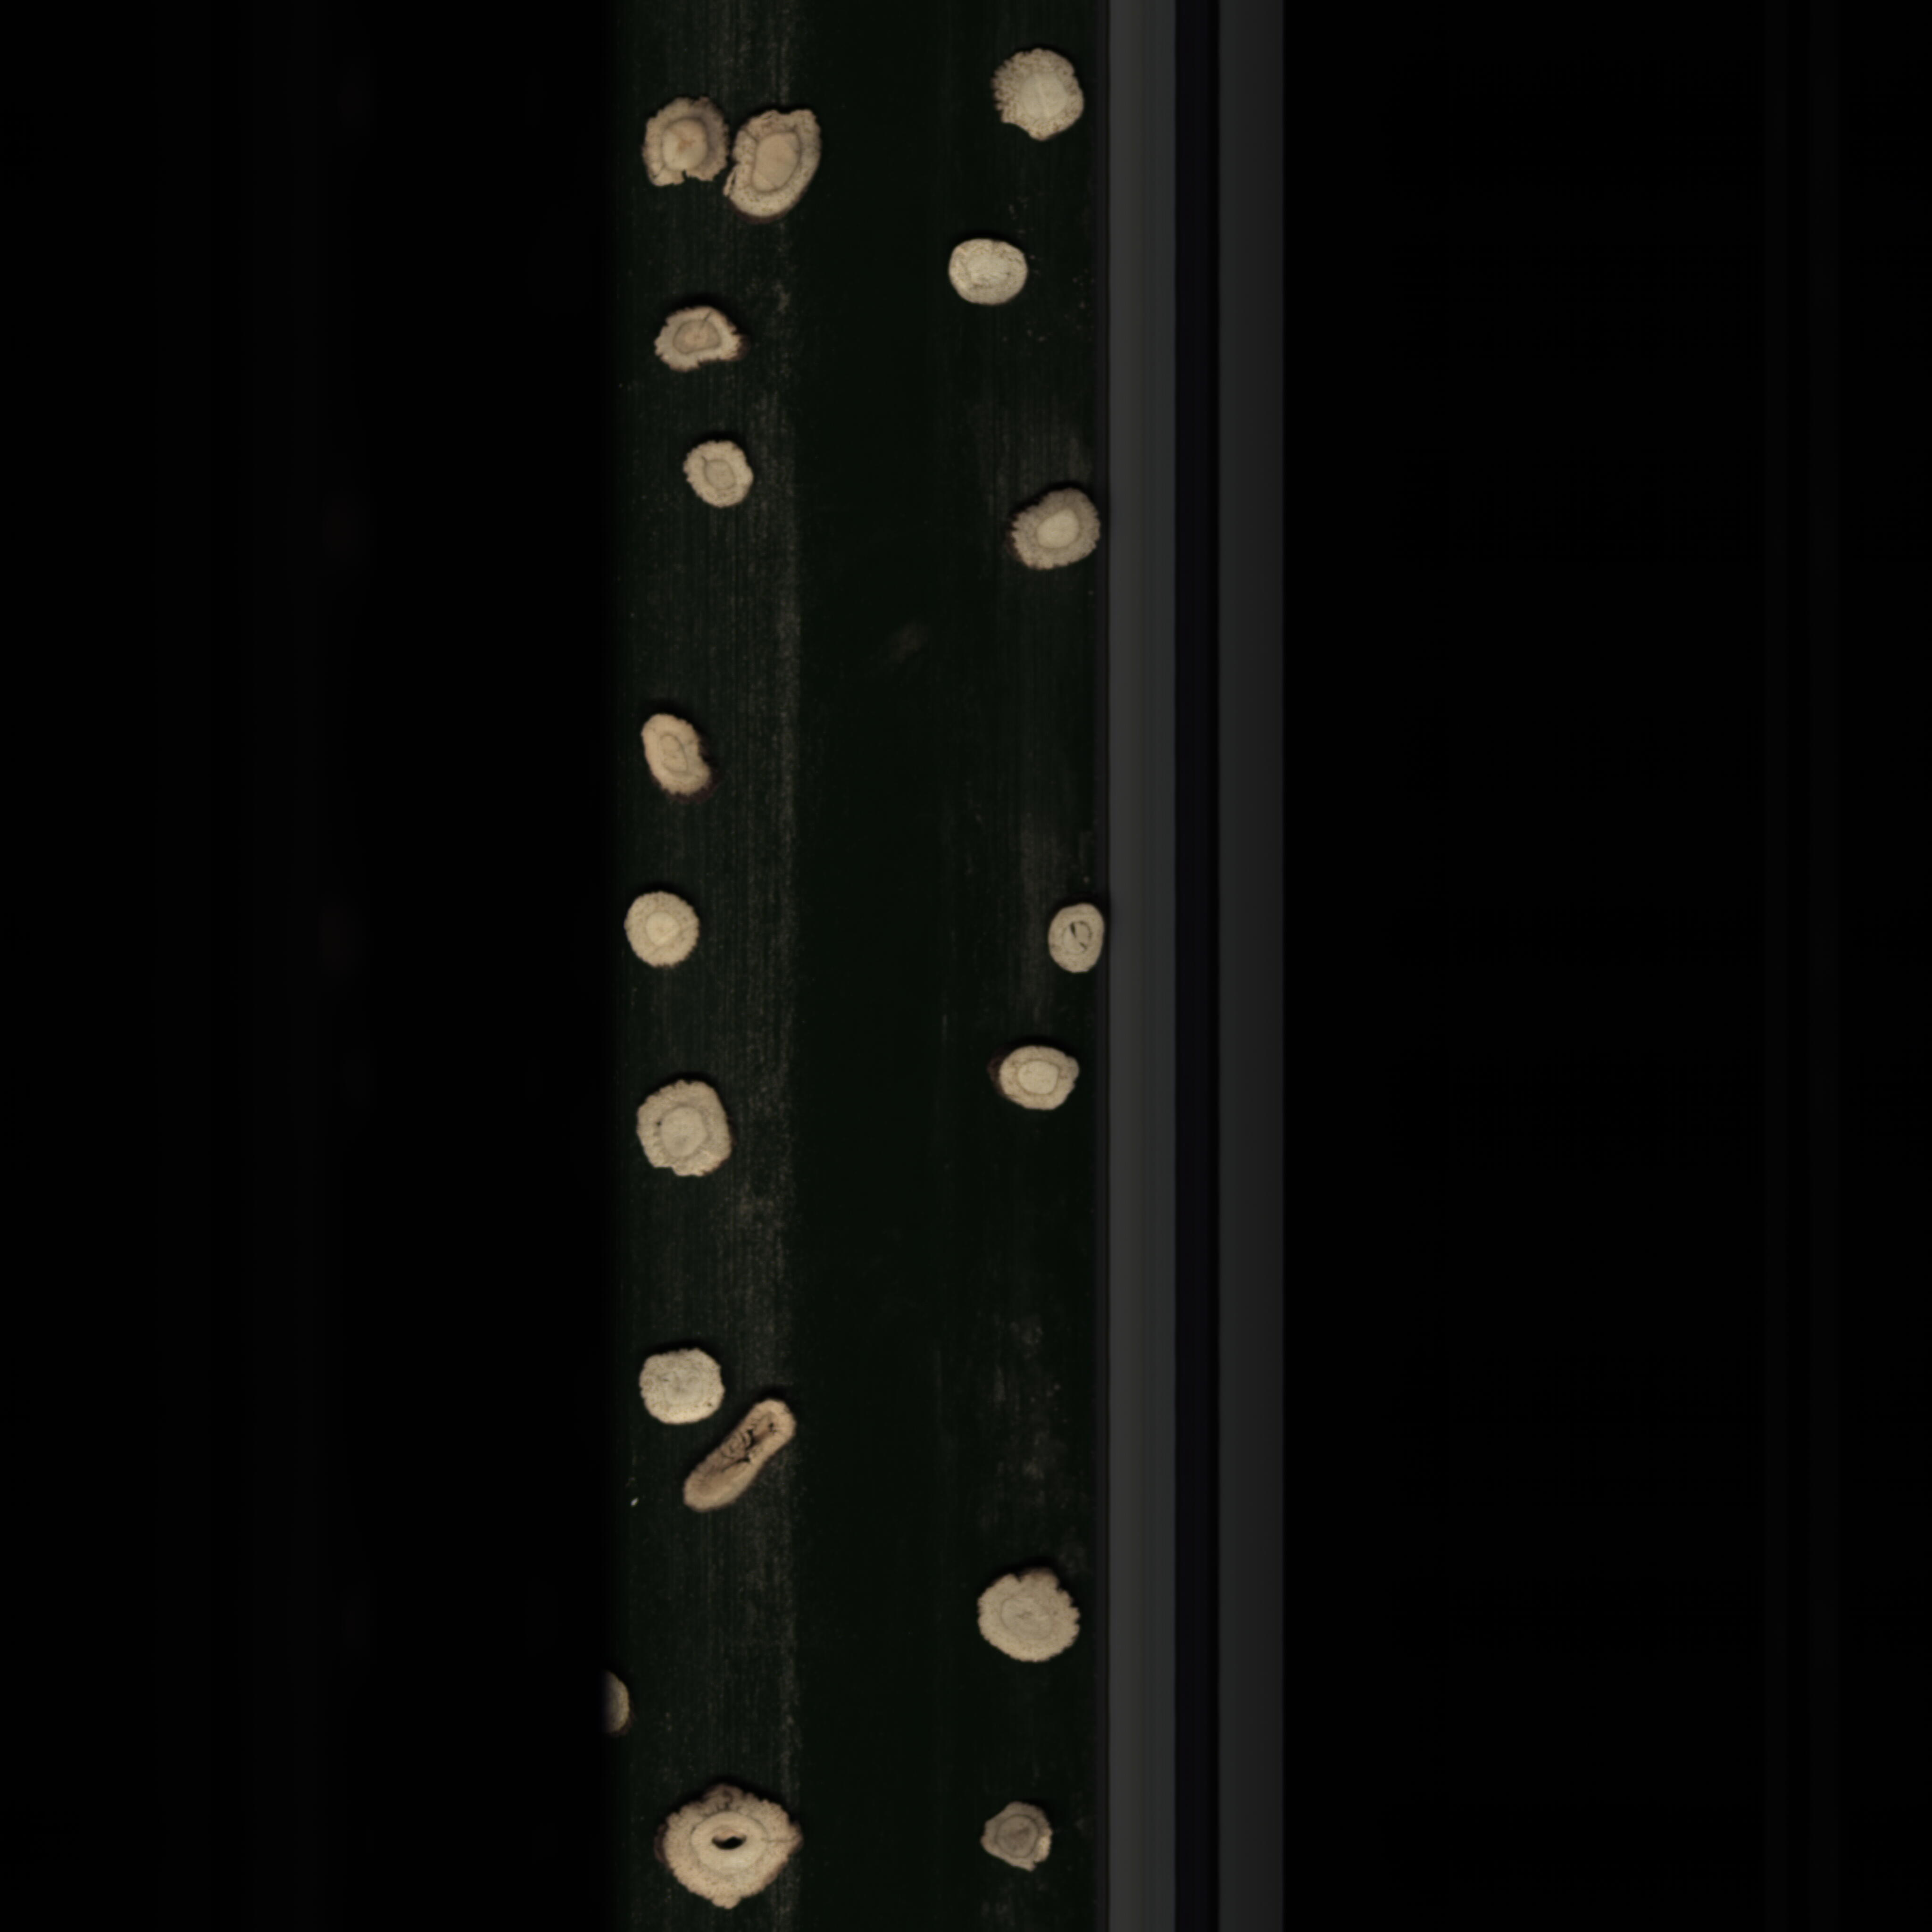distortion: (731, 110, 828, 218)
hole: (644, 1778, 812, 1921), (1042, 892, 1109, 978)
moldy: (676, 1438, 847, 1495), (637, 87, 722, 186), (648, 303, 755, 375)
